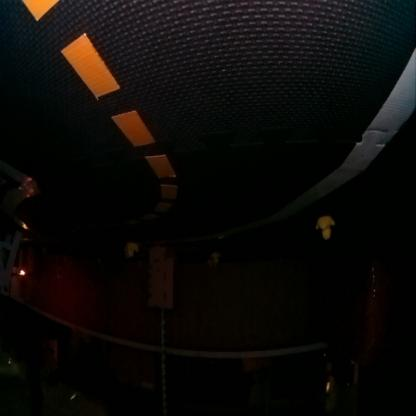Duckie: (315, 217, 334, 241), (126, 243, 138, 259), (210, 255, 219, 265)
